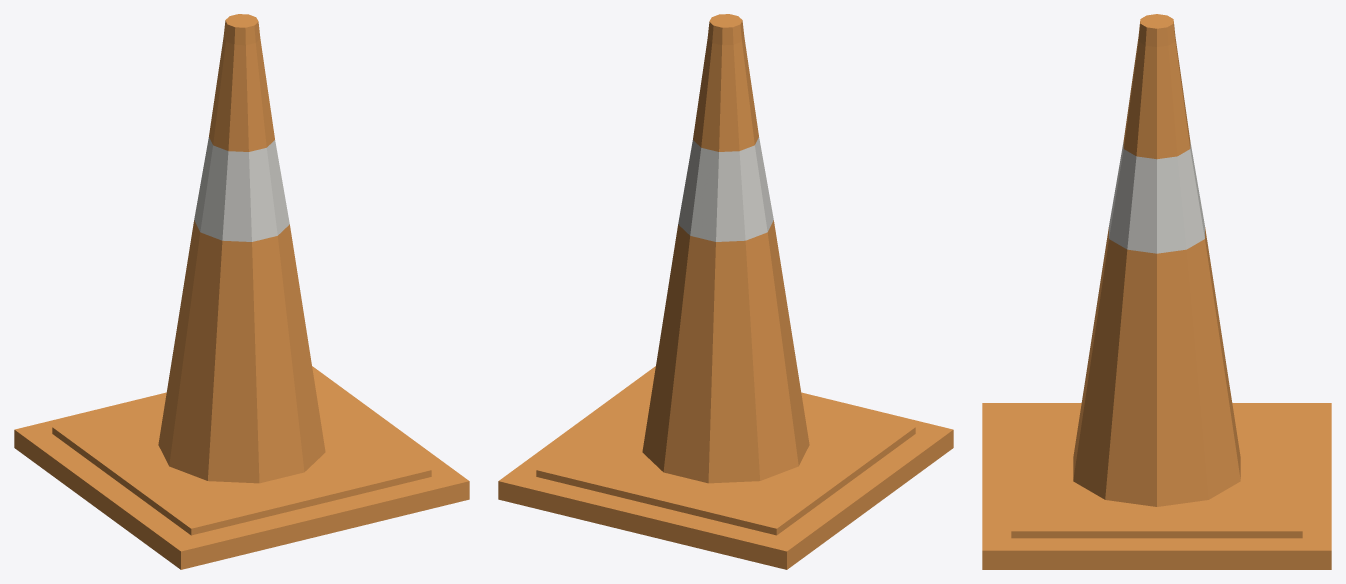
3 renders of one model, left to right at view 1: azimuth 30°, elevation 25°; view 2: azimuth 150°, elevation 25°; view 3: azimuth 270°, elevation 25°, orthographic. The views are drawn at different scales.
Visible parts, largest first — view 1: NC_cone; view 2: NC_cone; view 3: NC_cone.
Part boxes in pixels (x1,y1,x2,y2): NC_cone: (14,14,469,569); NC_cone: (498,14,953,569); NC_cone: (982,14,1331,569).
Bounding box in the file's own units: 0.36 × 0.54 × 0.36.
